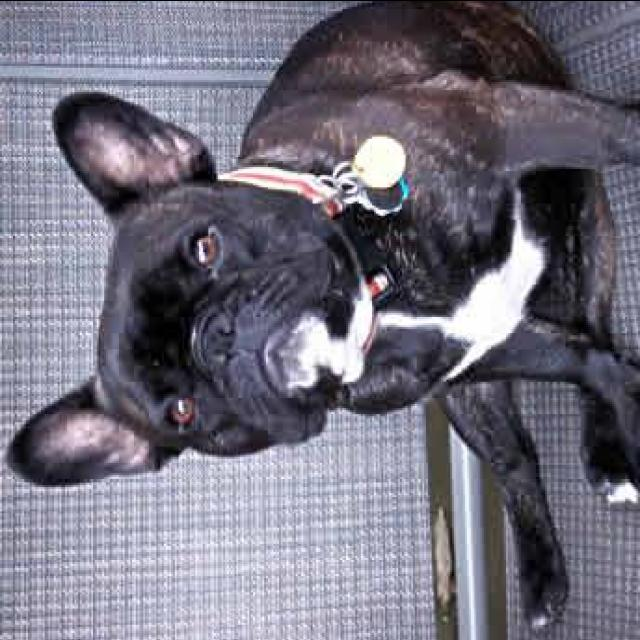buldog: (49, 82, 391, 517)
